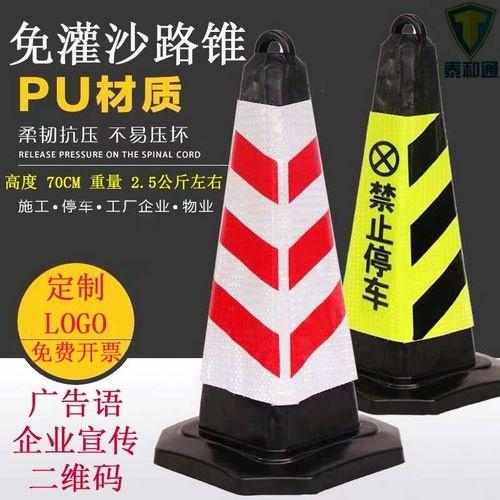cone_barrel: (171, 30, 373, 473), (329, 18, 485, 400)
